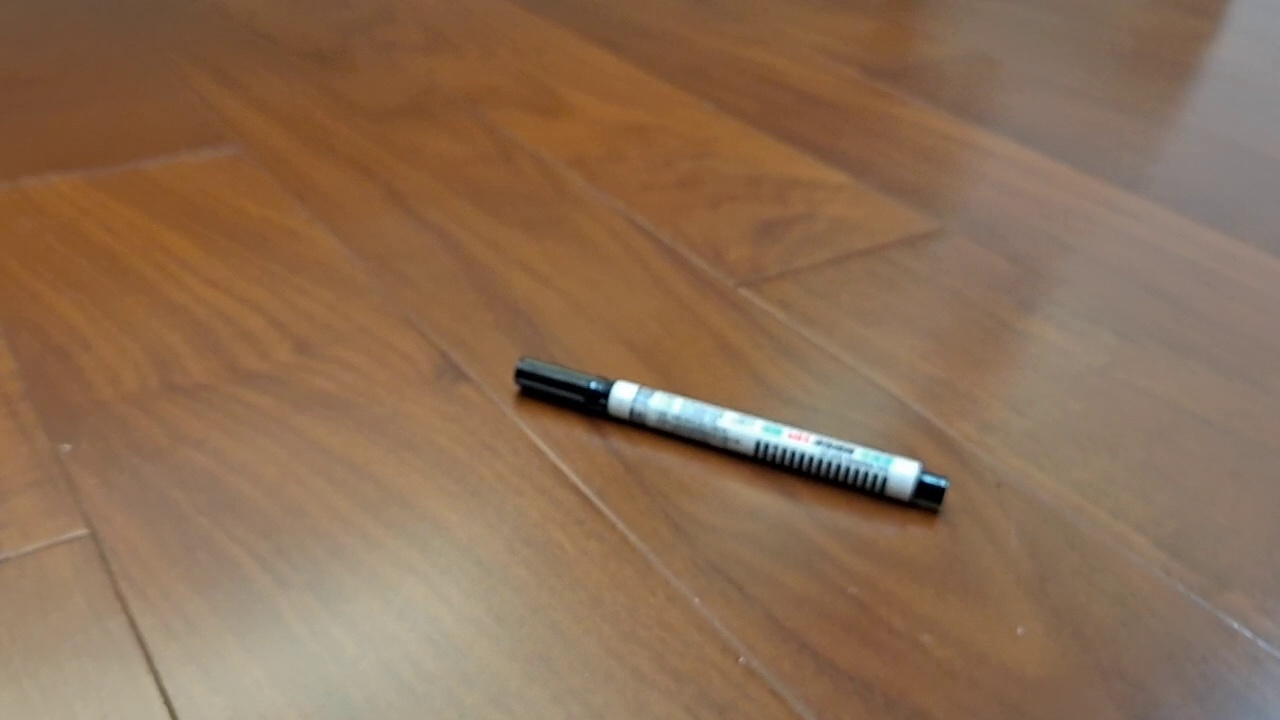pen: (513, 354, 950, 510)
